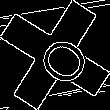O_NW: (22, 23, 88, 87)
